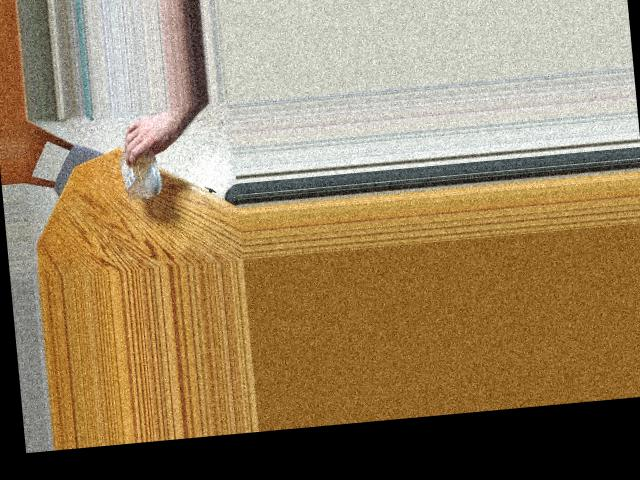cheese: (113, 129, 167, 192)
